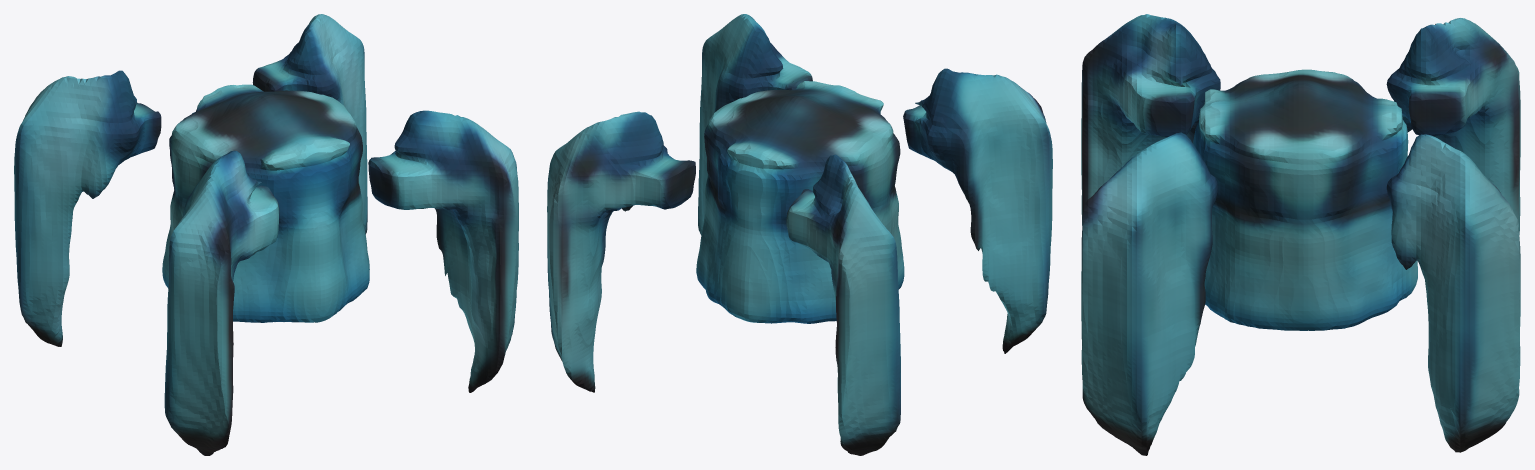
The picture shows the model from 3 angles, left to right: view 1: azimuth 30°, elevation 25°; view 2: azimuth 150°, elevation 25°; view 3: azimuth 270°, elevation 25°; orthographic projection. The views are drawn at different scales.
Parts seen in each view (by area): view 1: tmp91kncgux.ply; view 2: tmp91kncgux.ply; view 3: tmp91kncgux.ply.
Boxes of the visible parts, x1,y1,x2,y2 form: tmp91kncgux.ply: [14, 14, 518, 455]; tmp91kncgux.ply: [547, 14, 1052, 455]; tmp91kncgux.ply: [1081, 14, 1520, 455].
Size of the model in its own units: 1.39 by 1.08 by 1.39.
